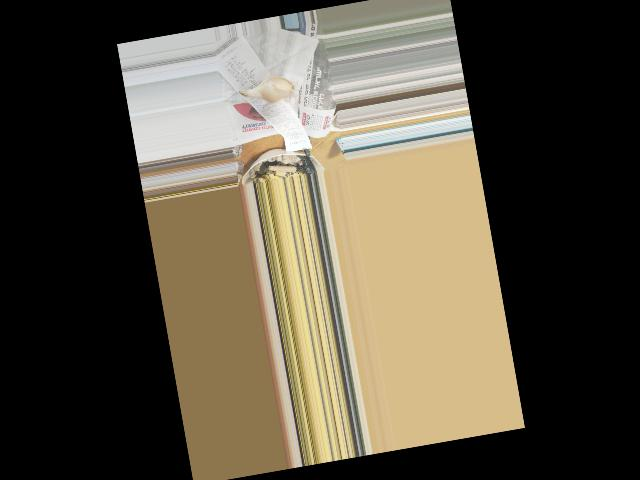onion: (250, 74, 299, 106)
